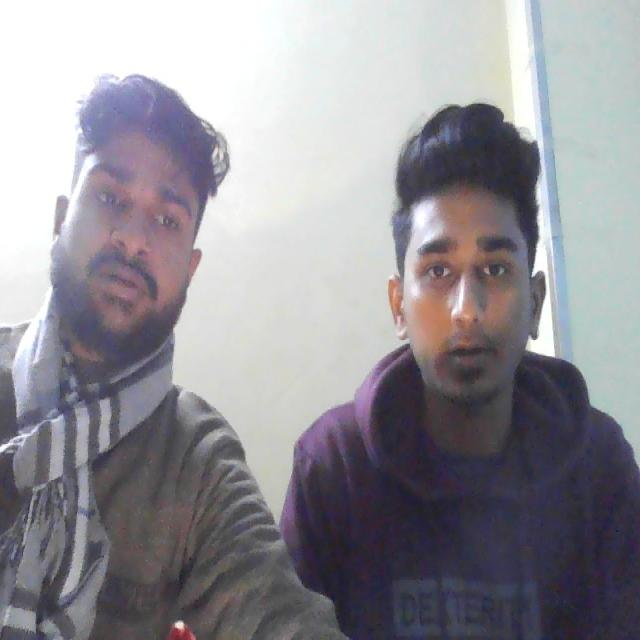real: (389, 118, 552, 426), (56, 80, 203, 359)
